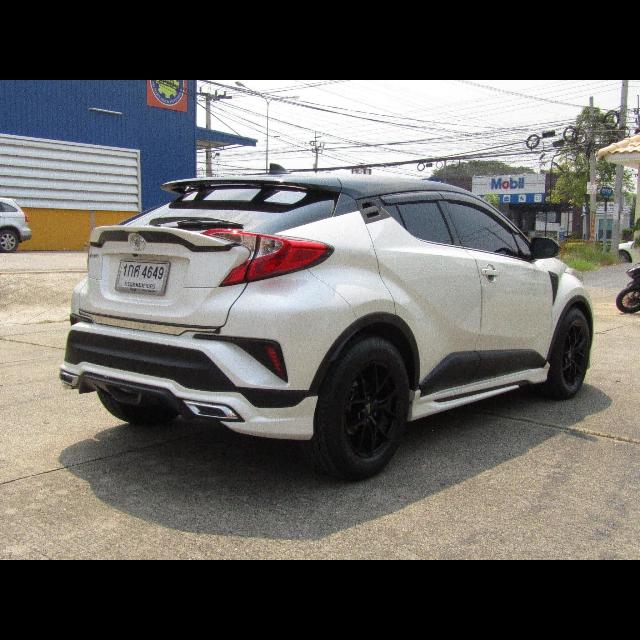cars: (52, 154, 598, 488)
